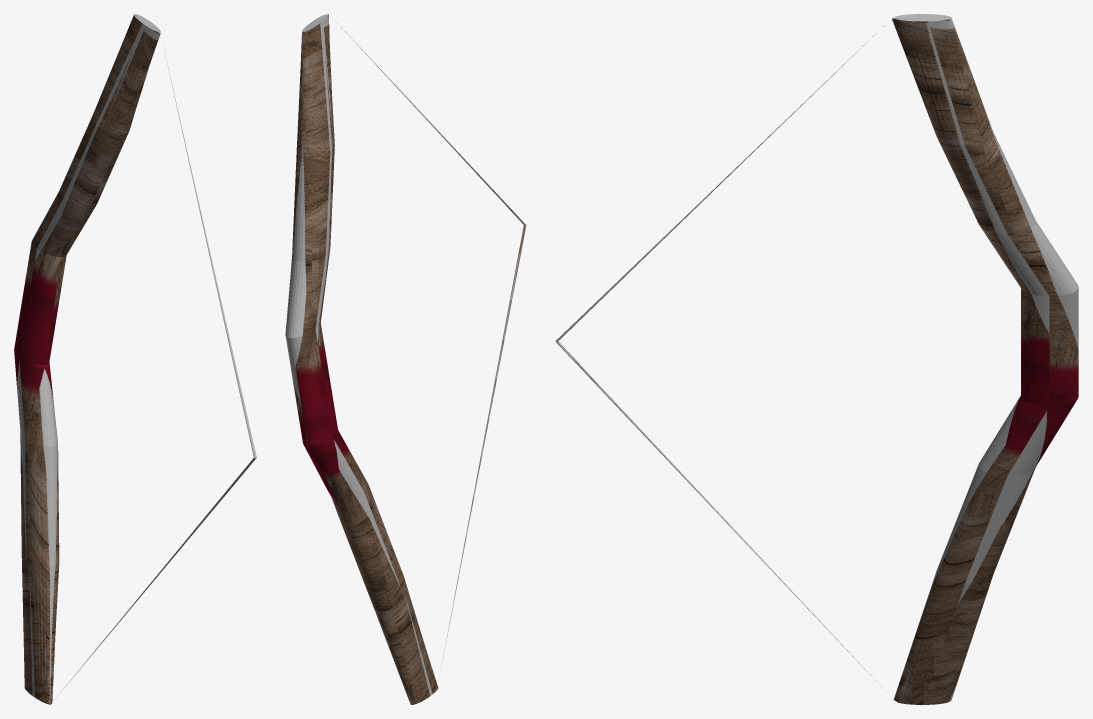
Rendered from Protagonista110.obj.
The picture shows the model from 3 angles, left to right: view 1: azimuth 30°, elevation 25°; view 2: azimuth 150°, elevation 25°; view 3: azimuth 270°, elevation 25°; orthographic projection. The views are drawn at different scales.
Visible parts, largest first — view 1: Cilindro; view 2: Cilindro; view 3: Cilindro.
Part boxes in pixels (<box>): Cilindro: <box>14,14,256,704</box>; Cilindro: <box>285,14,526,704</box>; Cilindro: <box>555,14,1078,704</box>.
Size of the model in its own units: 0.1877 by 0.9705 by 0.6171.
Materials: 1 (1 with a texture image).
